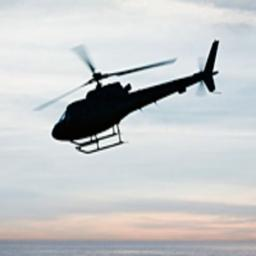helicopter: (40, 38, 219, 155)
